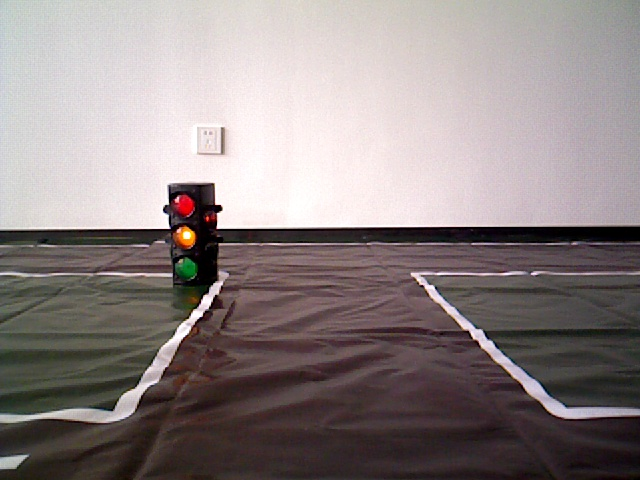yellow: (167, 179, 218, 285)
